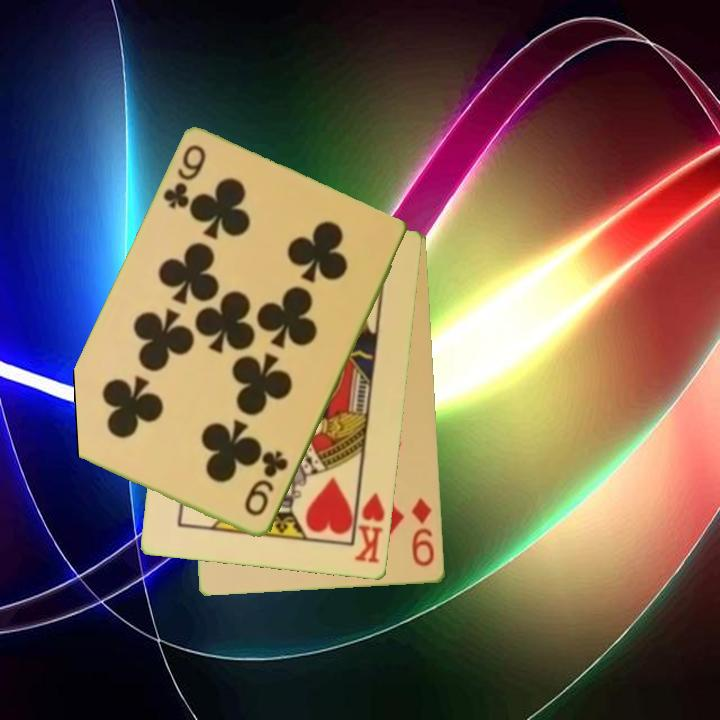9c: (159, 141, 210, 213), (241, 447, 291, 520)
9d: (408, 495, 438, 570)
Kh: (351, 483, 388, 567)
